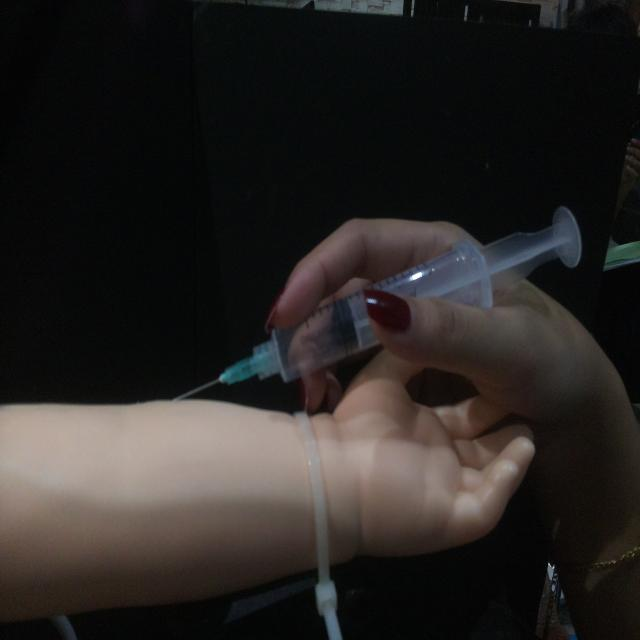17deg: (169, 202, 585, 403)
